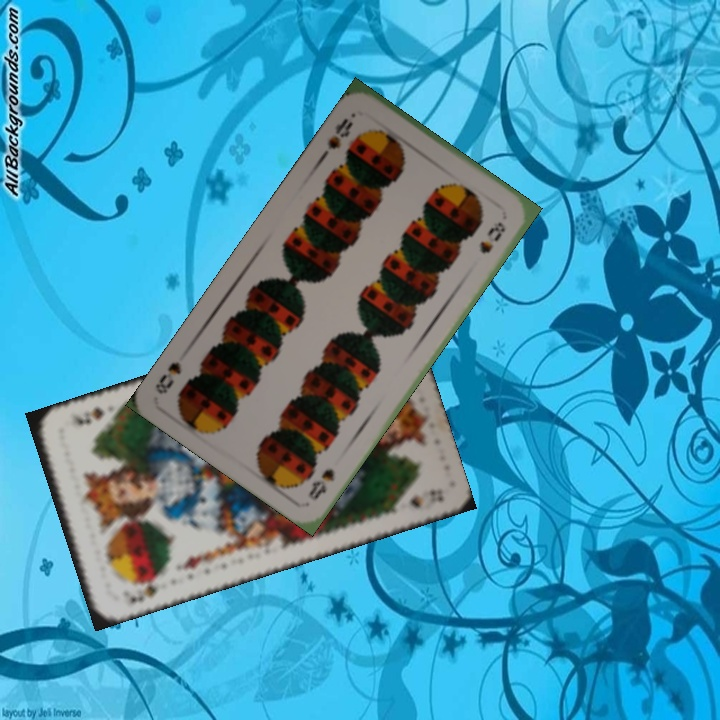S8: (318, 114, 356, 159), (304, 465, 337, 503)
SK: (126, 572, 166, 606)
